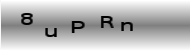8: (20, 12, 34, 25)
P: (70, 20, 86, 34)
R: (99, 15, 115, 29)
n: (120, 21, 135, 32)
u: (44, 26, 58, 38)
